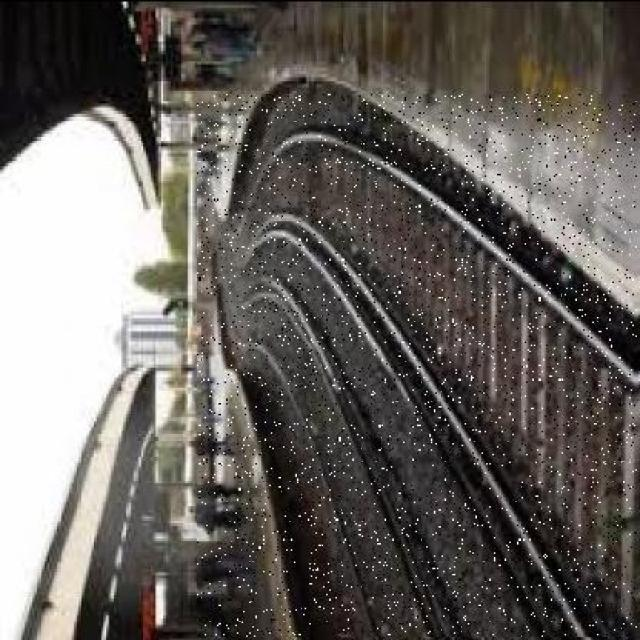rail: (198, 92, 637, 635)
